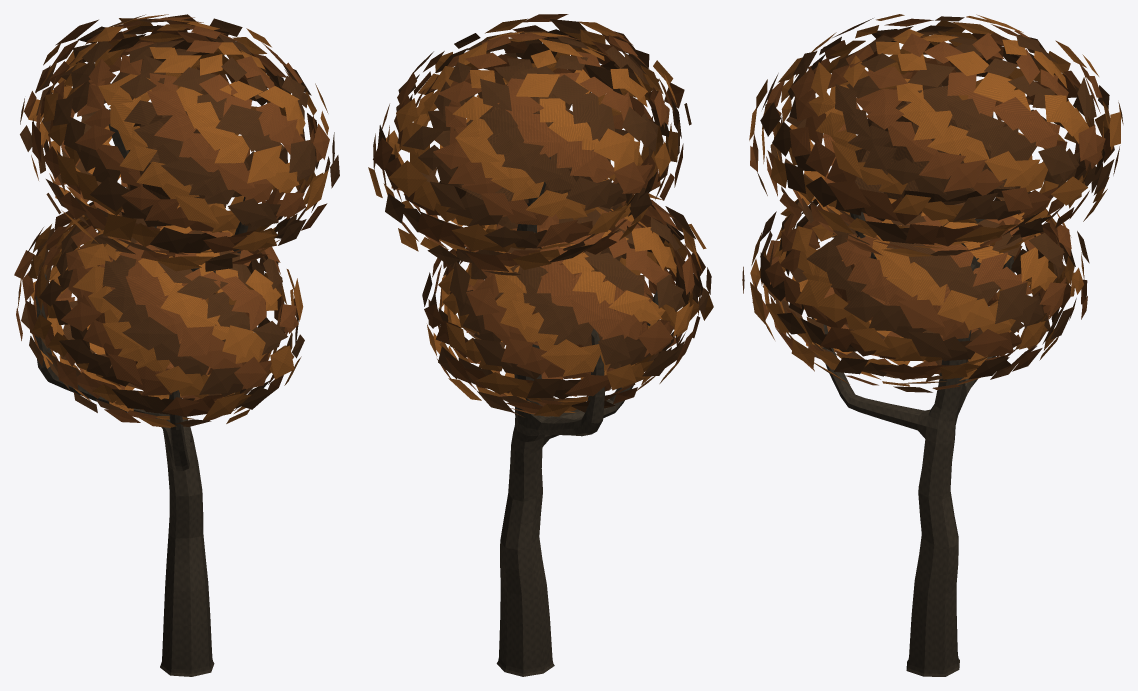
The model's file is autumn-tree-copper.glb.
3 renders of one model, left to right at view 1: azimuth 30°, elevation 25°; view 2: azimuth 150°, elevation 25°; view 3: azimuth 270°, elevation 25°, orthographic.
Parts seen in each view (by area): view 1: autumn-tree-copper-leaf-envelope-2, autumn-tree-copper-leaf-envelope-1, autumn-tree-copper-trunk-and-branches, autumn-tree-copper-canopy-lobe-2; view 2: autumn-tree-copper-leaf-envelope-2, autumn-tree-copper-leaf-envelope-1, autumn-tree-copper-trunk-and-branches, autumn-tree-copper-canopy-lobe-2; view 3: autumn-tree-copper-leaf-envelope-2, autumn-tree-copper-leaf-envelope-1, autumn-tree-copper-trunk-and-branches, autumn-tree-copper-canopy-lobe-2.
Part boxes in pixels (x1,y1,x2,y2): autumn-tree-copper-leaf-envelope-2: (20,14,339,271); autumn-tree-copper-leaf-envelope-1: (14,201,304,427); autumn-tree-copper-trunk-and-branches: (35,109,248,676); autumn-tree-copper-canopy-lobe-2: (127,89,249,199); autumn-tree-copper-leaf-envelope-2: (368,14,691,275); autumn-tree-copper-leaf-envelope-1: (422,182,713,417); autumn-tree-copper-trunk-and-branches: (496,157,658,676); autumn-tree-copper-canopy-lobe-2: (439,84,606,203); autumn-tree-copper-leaf-envelope-2: (749,14,1123,256); autumn-tree-copper-leaf-envelope-1: (742,191,1089,392); autumn-tree-copper-trunk-and-branches: (812,113,1014,676); autumn-tree-copper-canopy-lobe-2: (855,98,1019,204).
Size of the model in its own units: 3.58 by 7.94 by 4.35.
Materials: 6 (6 with a texture image).
